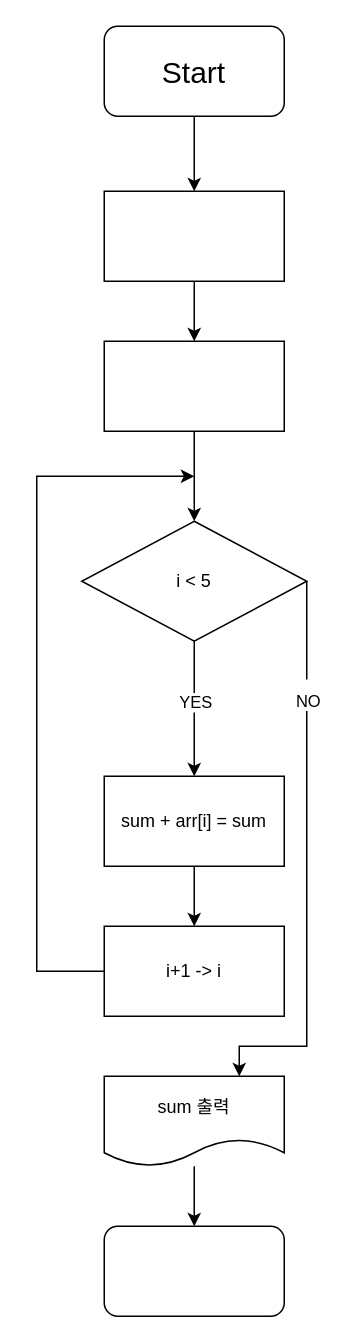
Some shapes in this 347 by 1343 pixel diagram are drawn without their labels. Each missing label, with the centre of its shape:
"0 -> i" goes at [193,385].
"0 -> sum" goes at [193,235].
"END" goes at [193,1270].
